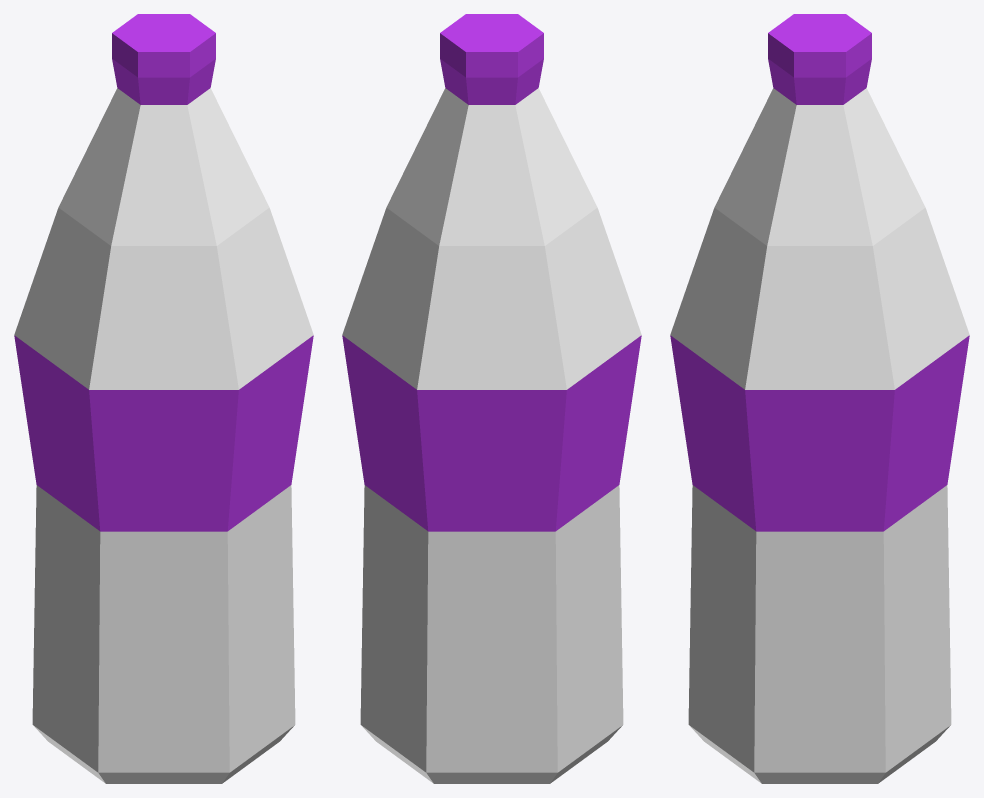
Rendered from Purpule_bottle.fbx.
3 views of the same model, side by side, from view 1: azimuth 30°, elevation 25°; view 2: azimuth 150°, elevation 25°; view 3: azimuth 270°, elevation 25° (orthographic).
Visible parts, largest first — view 1: Cylinder.007; view 2: Cylinder.007; view 3: Cylinder.007.
Boxes of the visible parts, box(x1,y1,x2,y2) form: Cylinder.007: box(14, 14, 313, 783); Cylinder.007: box(342, 14, 641, 783); Cylinder.007: box(670, 14, 969, 783).
Size of the model in its own units: 85.8 by 258 by 99.07.
